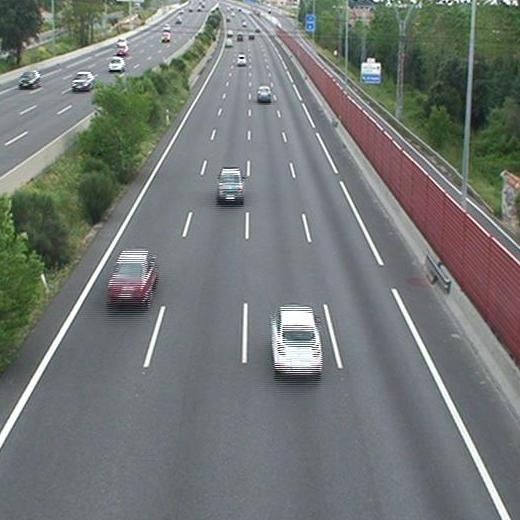car: (269, 308, 321, 374), (108, 251, 157, 303), (218, 169, 243, 201), (256, 87, 271, 101), (236, 54, 246, 65), (224, 37, 232, 47), (236, 33, 245, 41)
